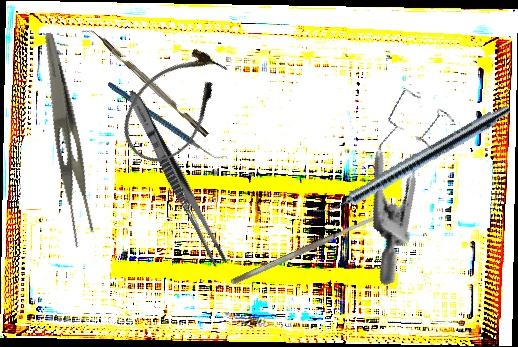Cannula: (107, 34, 241, 177)
Chopper: (107, 52, 228, 190), (80, 22, 210, 144)
Dressing Forceps: (121, 87, 232, 270), (20, 31, 107, 249)
Handpiece: (311, 98, 514, 226)
Spatula Surgical: (229, 211, 384, 287)
Speculum: (321, 77, 500, 287)
